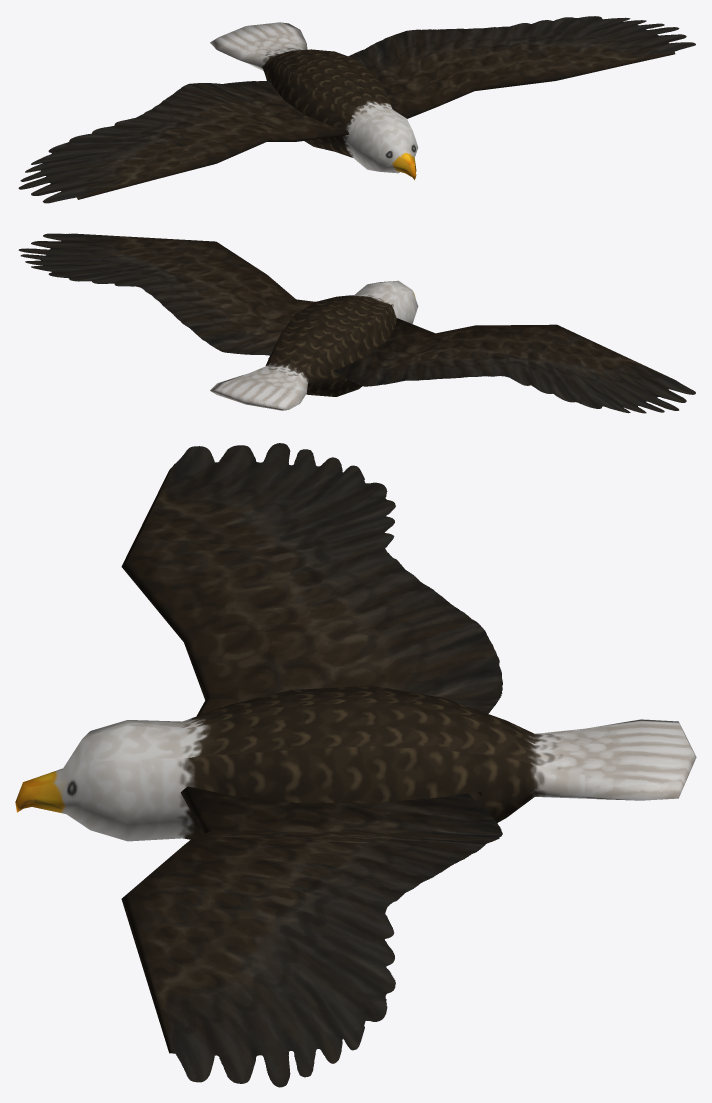
Rendered from Eagle.FBX.
3 views of the same model, one above another, from view 1: azimuth 30°, elevation 25°; view 2: azimuth 150°, elevation 25°; view 3: azimuth 270°, elevation 25° (orthographic). The views are drawn at different scales.
Visible parts, largest first — view 1: wing_002, wing_1, Eagle_head_body_tail; view 2: wing_1, wing_002, Eagle_head_body_tail; view 3: wing_002, wing_1, Eagle_head_body_tail.
Part boxes in pixels (x1,y1,x2,y2): wing_002: (348, 16, 695, 118); wing_1: (18, 78, 349, 203); Eagle_head_body_tail: (210, 22, 418, 180); wing_1: (328, 318, 695, 413); wing_002: (18, 233, 315, 359); Eagle_head_body_tail: (210, 280, 418, 410); wing_002: (121, 786, 502, 1087); wing_1: (121, 443, 502, 716); Eagle_head_body_tail: (15, 685, 696, 841).
Size of the model in its own units: 10.27 by 1.06 by 4.58.
